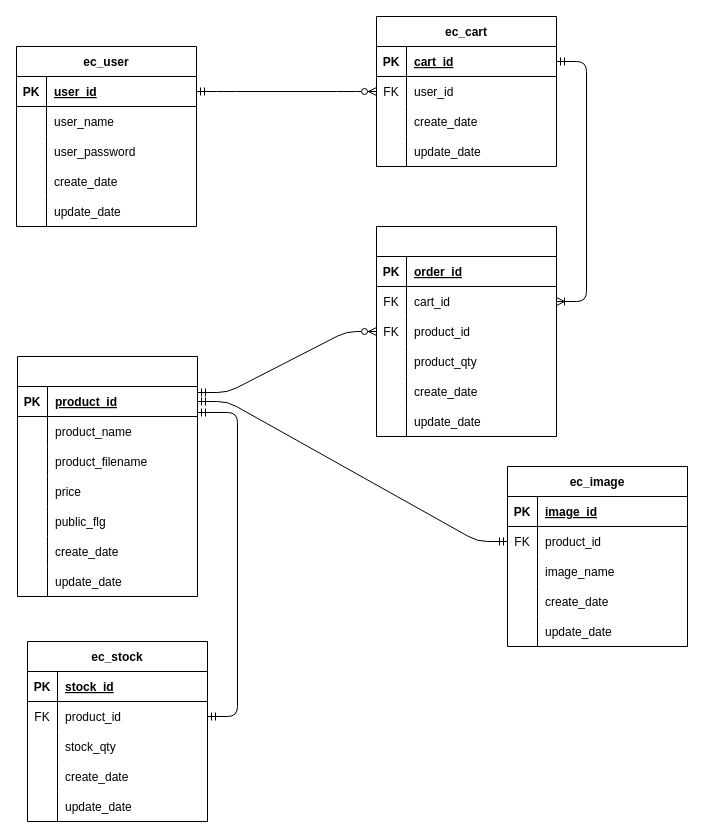
This 704x838 diagram has some shape labels left out. The box of each missing label's shape, as (x1, y1, x2, y2) in pixels:
ec_order: (376, 226, 556, 436)
ec_product: (16, 356, 198, 596)
